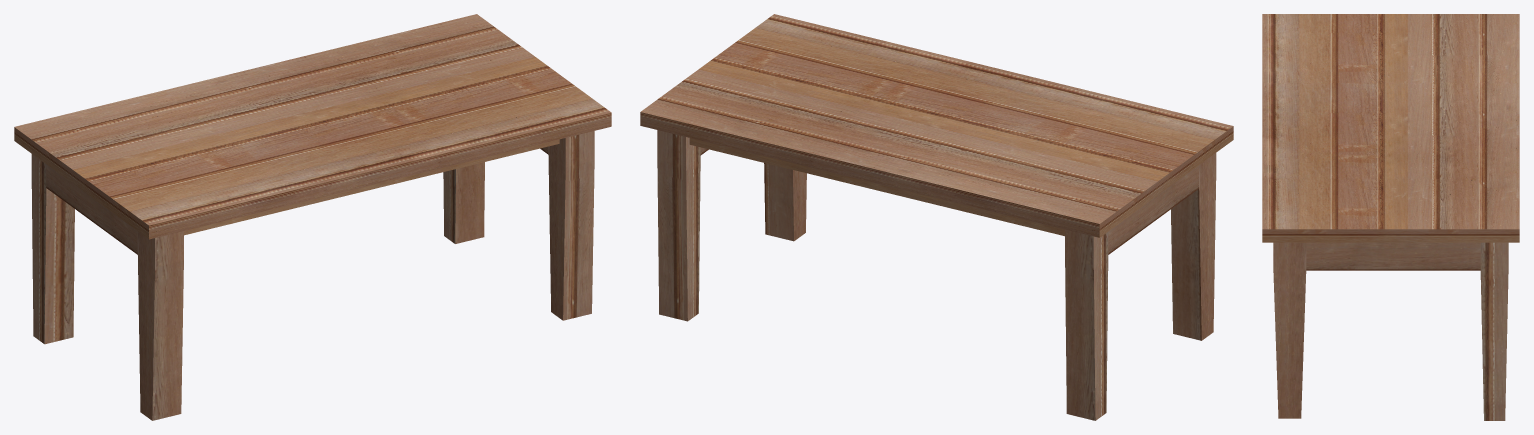
The model's file is Prop_table.FBX.
3 renders of one model, left to right at view 1: azimuth 30°, elevation 25°; view 2: azimuth 150°, elevation 25°; view 3: azimuth 270°, elevation 25°, orthographic. The views are drawn at different scales.
Visible parts, largest first — view 1: table1; view 2: table1; view 3: table1.
Part boxes in pixels (bbox=[...]): table1: bbox=[14, 14, 611, 420]; table1: bbox=[640, 14, 1233, 420]; table1: bbox=[1262, 14, 1519, 420].
Size of the model in its own units: 82.53 by 41.66 by 35.23.
Materials: 1 (1 with a texture image).
